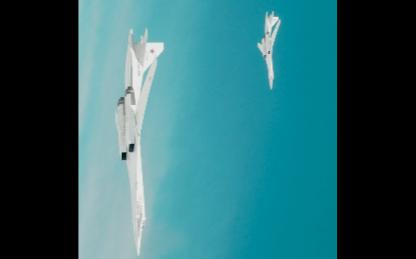Su34: (115, 27, 164, 256), (258, 10, 280, 89)
